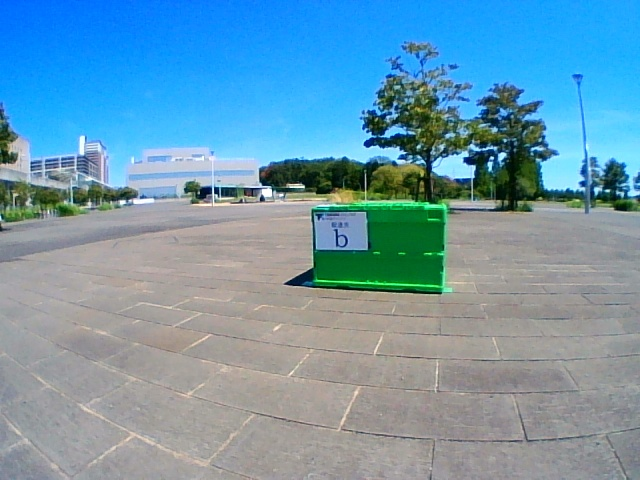green_box: (312, 203, 446, 293)
tag_b: (314, 212, 367, 250)
